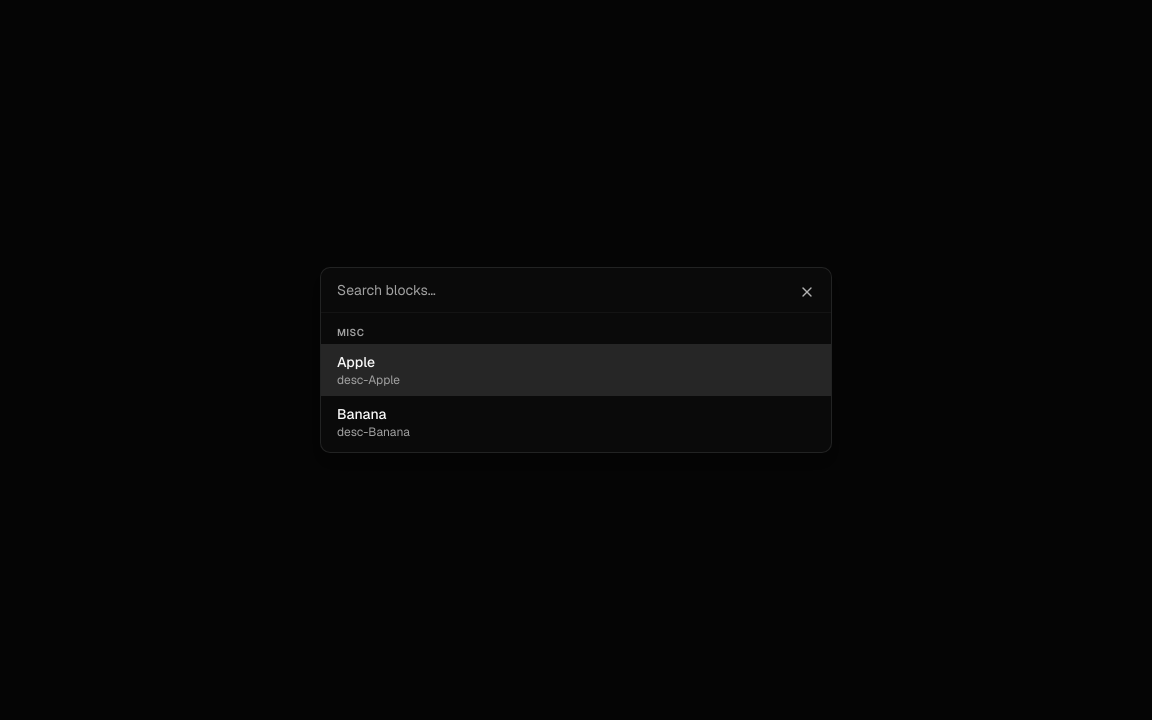
it: BlockPicker › filters by typed query against label and description
The image size is (1152, 720).
In the field labelled "Search blocks": coordinates (576, 290) [321,268,831,313], type "ban"
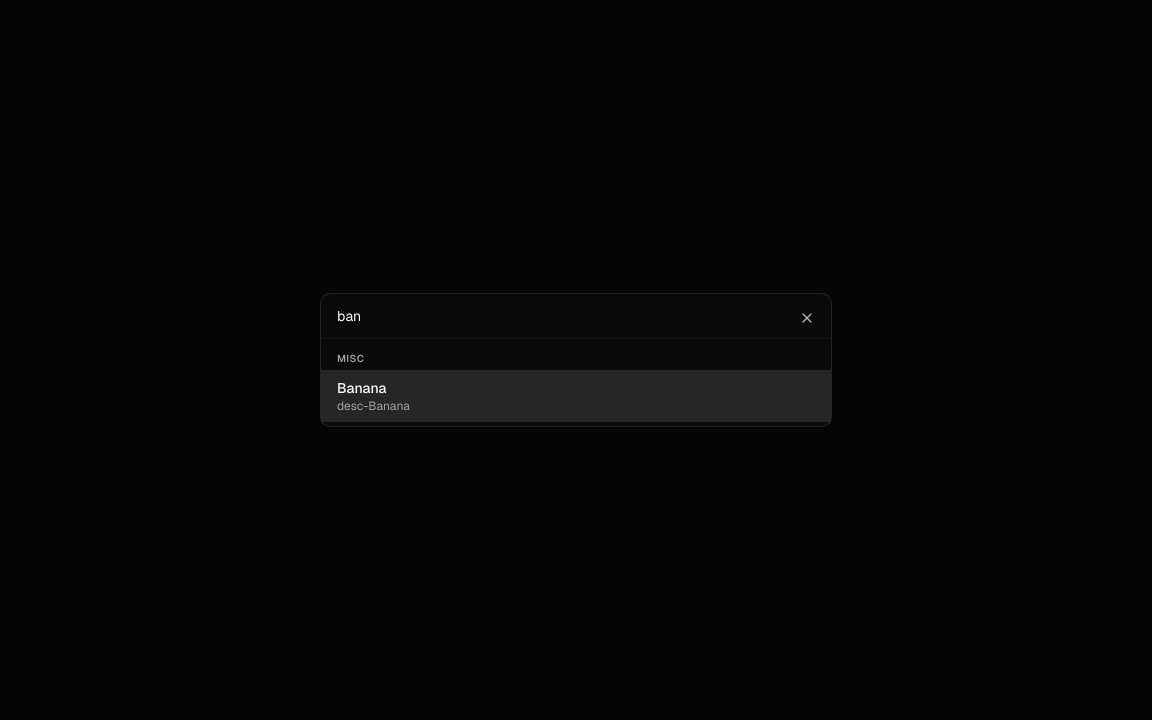
Expected: the text "Banana" is shown, [337,378,386,398]
Result: the option "Apple" is gone
